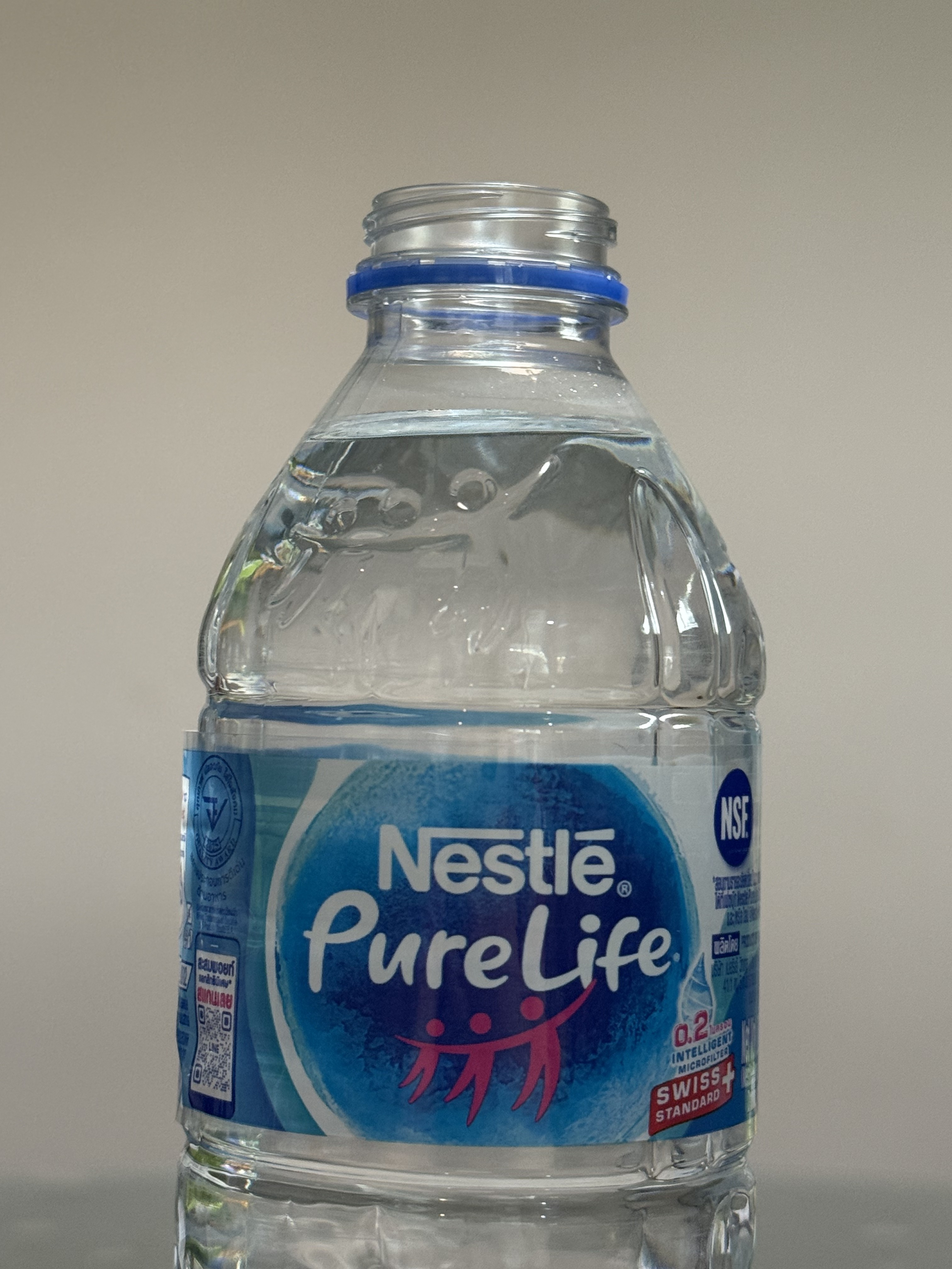no_cap: (341, 177, 632, 305)
